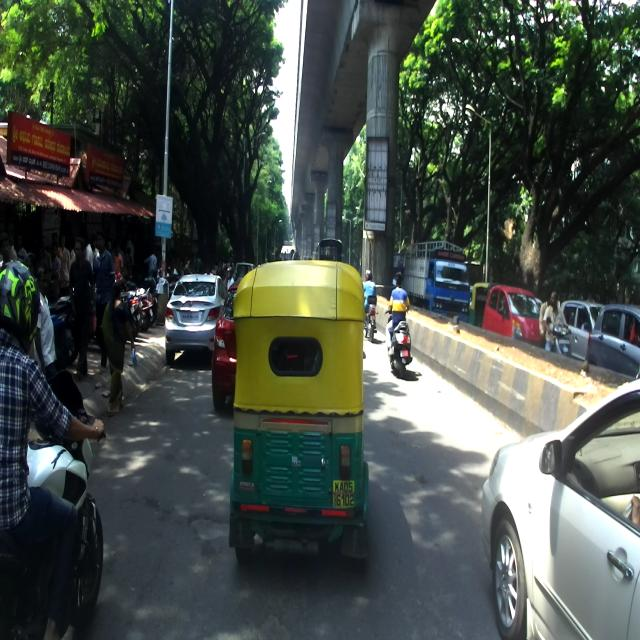auto ahead at: (232, 266, 370, 578)
car ahead at: (486, 372, 640, 640), (162, 271, 222, 356)
motorcycle ahead at: (0, 371, 106, 640)
